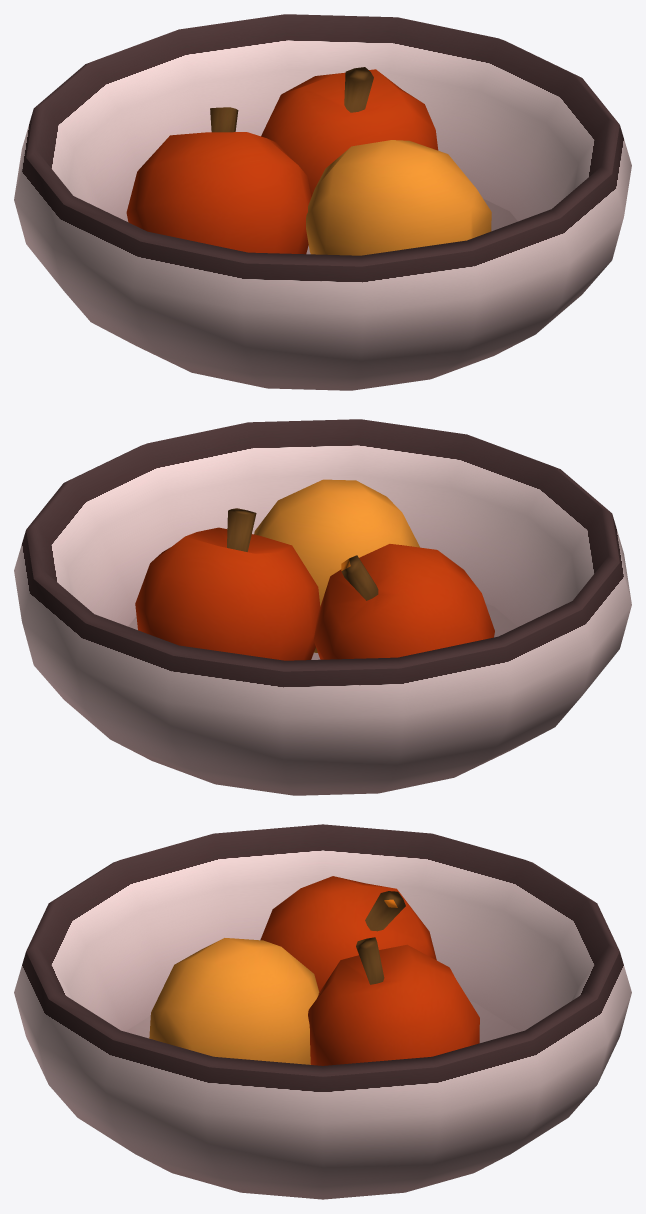
Rendered from fruitbowl.fbx.
The picture shows the model from 3 angles, top to bottom: view 1: azimuth 30°, elevation 25°; view 2: azimuth 150°, elevation 25°; view 3: azimuth 270°, elevation 25°; orthographic projection.
Visible parts, largest first — view 1: fruitbowl; view 2: fruitbowl; view 3: fruitbowl.
Boxes of the visible parts, x1=… form: fruitbowl: x1=14, y1=14, x2=631, y2=390; fruitbowl: x1=14, y1=419, x2=631, y2=795; fruitbowl: x1=14, y1=824, x2=631, y2=1199.
Size of the model in its own units: 1.3 by 0.4561 by 1.3.
